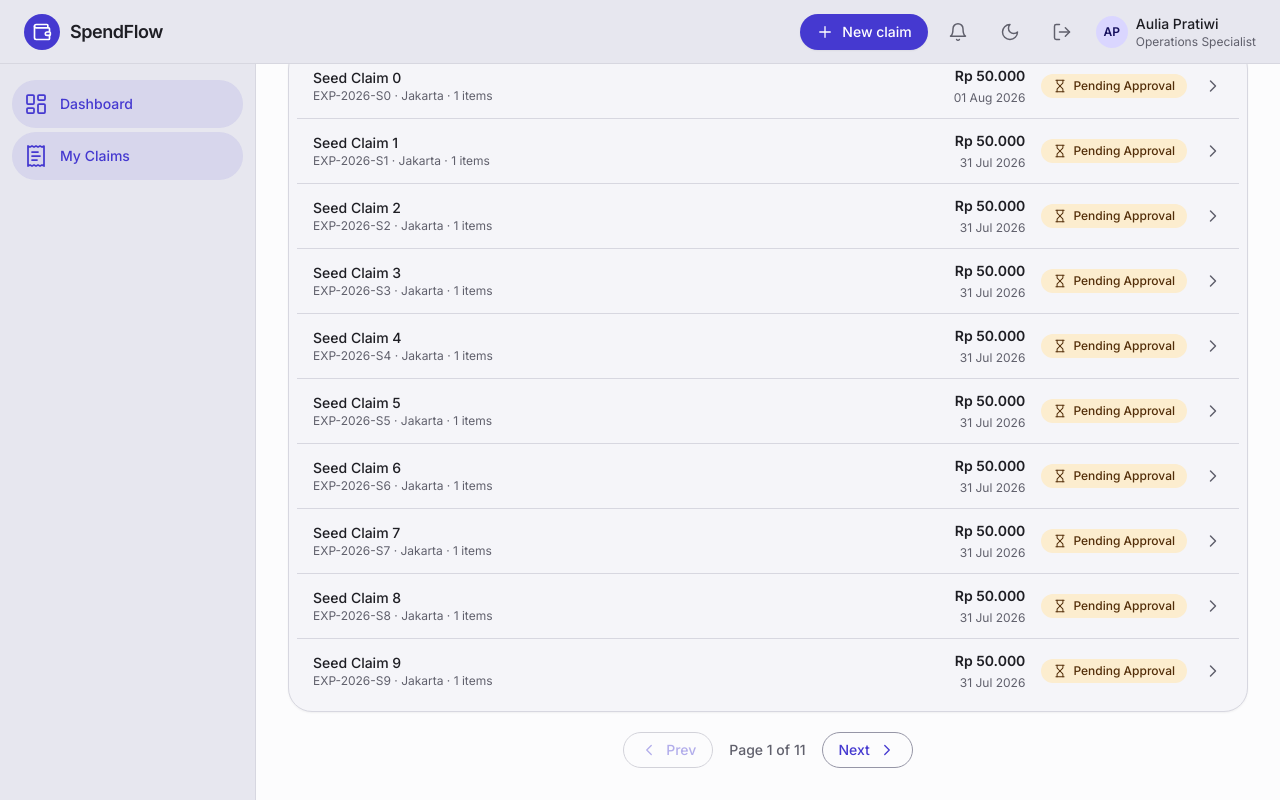
Test case: Claim list — pagination over a large data set › paginates 100+ claims, showing a bounded first page and next-page navigation
This screenshot has width=1280, height=800.
(page scrolled)
Expected: the text "Page 1 of 11" is shown, [729,741,806,758]
Note: Navigate to the next page and confirm a different bounded slice renders.
Click the button with aria-label "next page": (867, 750) [822,732,913,768]
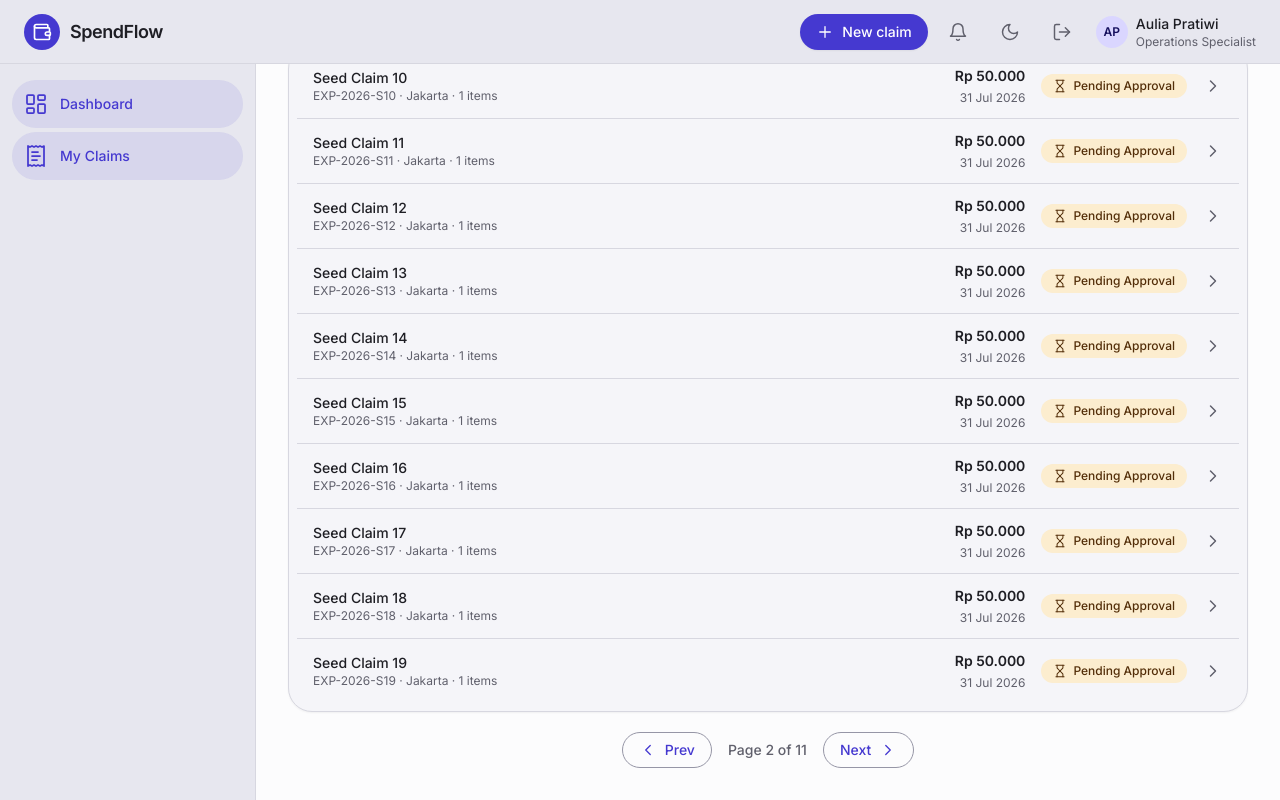
Now the text "Page 2 of 11" is shown, box [728,741,807,758]
